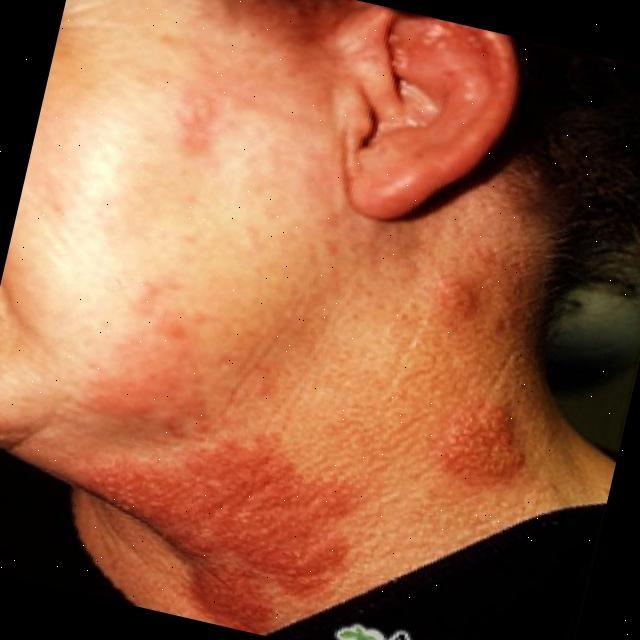Shingles: (73, 281, 354, 627), (434, 405, 526, 488)
